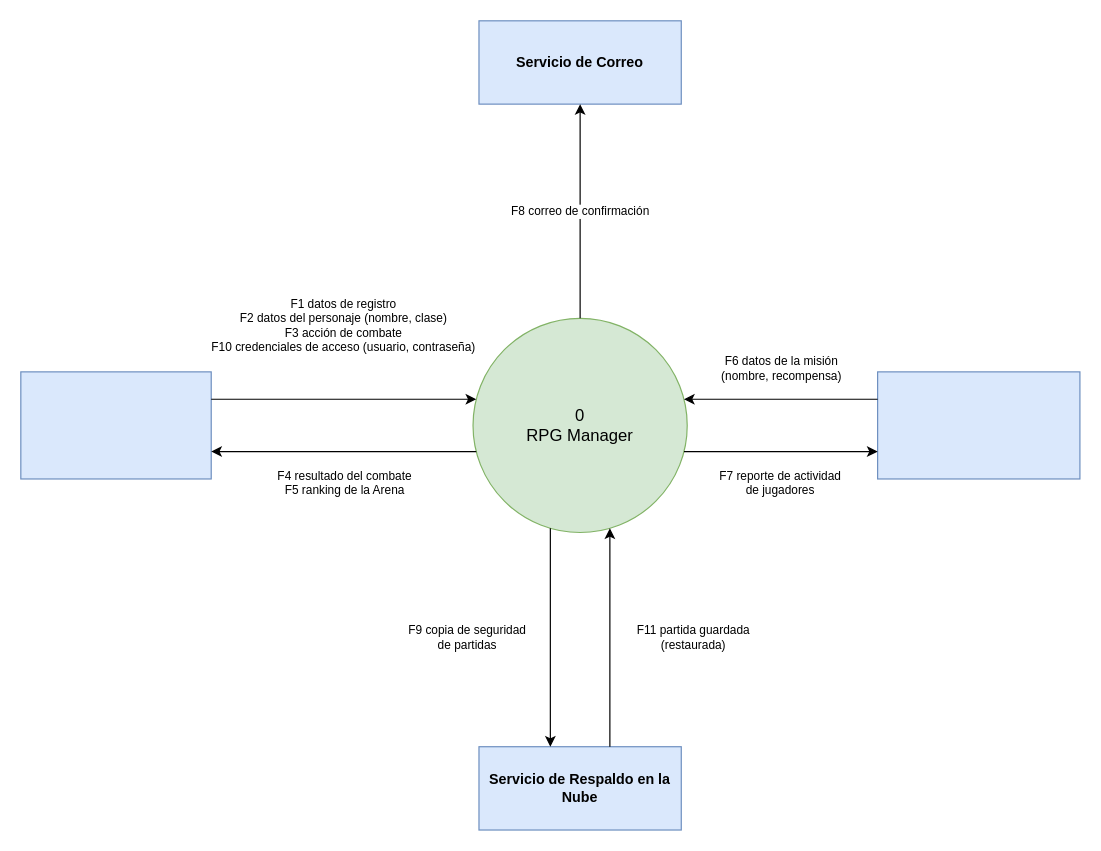
The diagram is 1101 pixels wide and 851 high, and some of its shapes have lost their labels. Each missing label, with the centre of its shape:
Game Master: (x=978, y=425)
Jugador: (x=115, y=425)
